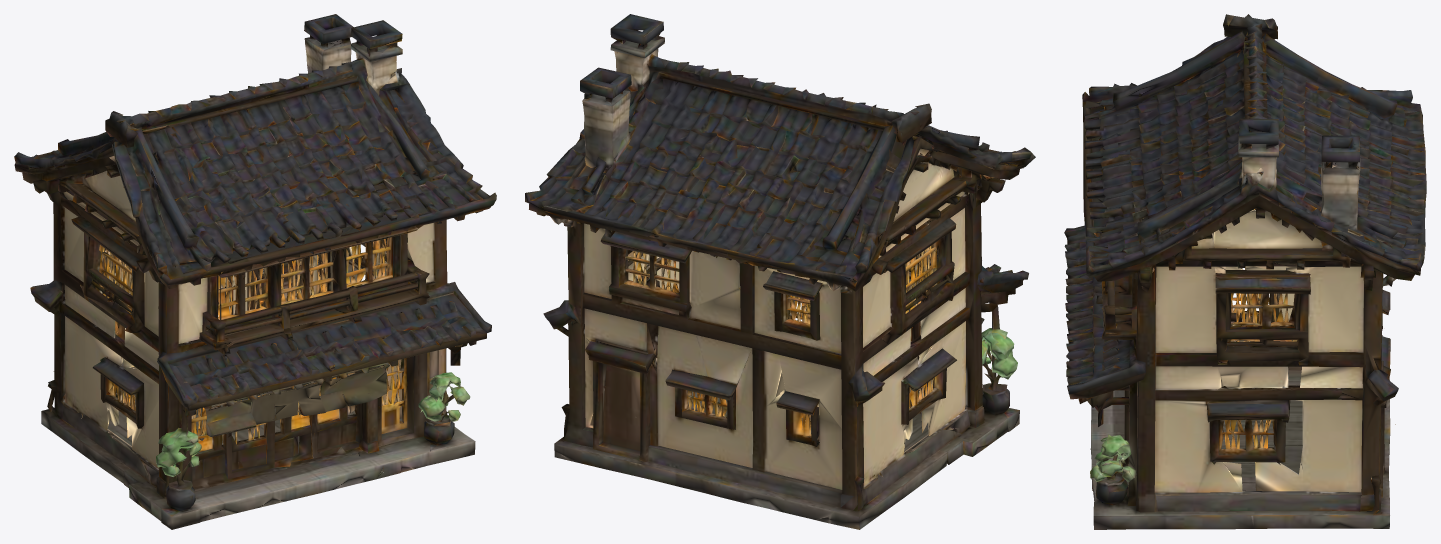
The model's file is candidate.glb.
3 views of the same model, side by side, from view 1: azimuth 30°, elevation 25°; view 2: azimuth 150°, elevation 25°; view 3: azimuth 270°, elevation 25° (orthographic). The views are drawn at different scales.
Visible parts, largest first — view 1: compact__shop_2__native_mobile; view 2: compact__shop_2__native_mobile; view 3: compact__shop_2__native_mobile.
Part boxes in pixels (box(x1,y1,x2,y2)): compact__shop_2__native_mobile: box(14, 14, 496, 529); compact__shop_2__native_mobile: box(525, 14, 1035, 529); compact__shop_2__native_mobile: box(1064, 14, 1426, 529).
Size of the model in its own units: 0.952 by 1 by 0.8347.
1 material, 1 textured.
